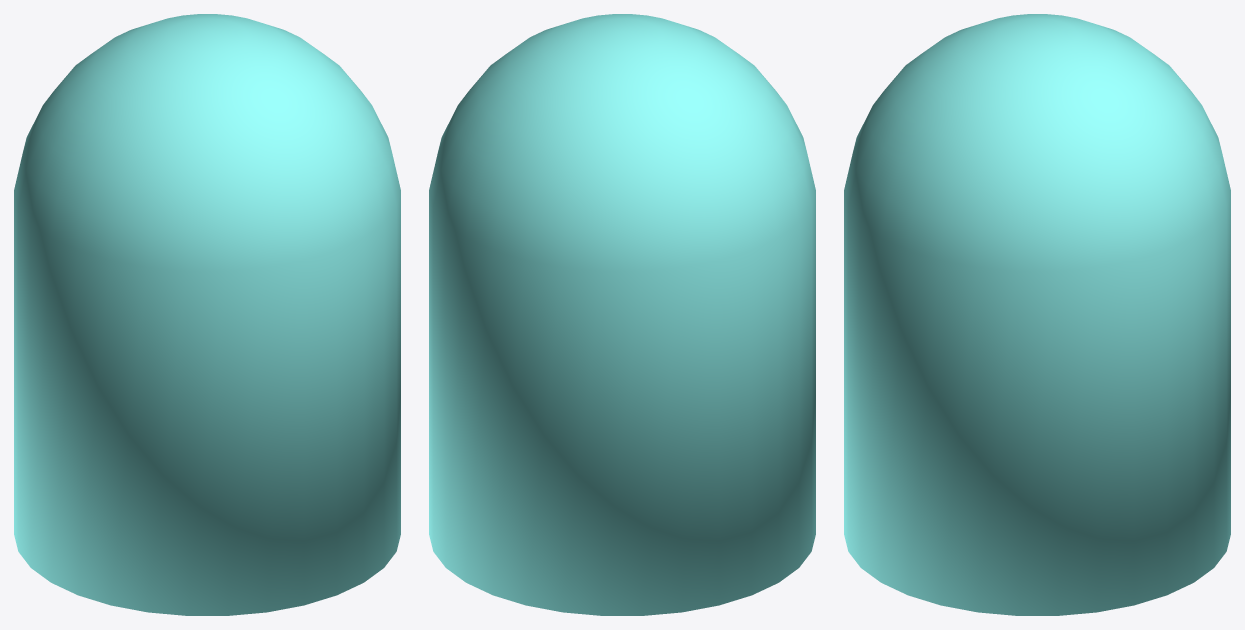
File: CapsuleGlass.fbx
The picture shows the model from 3 angles, left to right: view 1: azimuth 30°, elevation 25°; view 2: azimuth 150°, elevation 25°; view 3: azimuth 270°, elevation 25°; orthographic projection.
Parts seen in each view (by area): view 1: GlassCover002; view 2: GlassCover002; view 3: GlassCover002.
Boxes of the visible parts, x1=… form: GlassCover002: x1=14, y1=14, x2=400, y2=615; GlassCover002: x1=429, y1=14, x2=815, y2=615; GlassCover002: x1=844, y1=14, x2=1230, y2=615.
Bounding box in the file's own units: 39.93 × 57.59 × 40.15.
